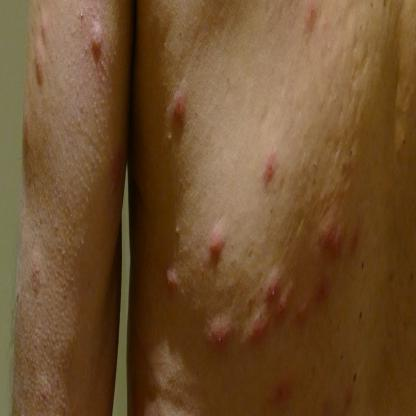Bed Bug: (240, 261, 342, 343), (312, 216, 362, 256), (32, 9, 53, 99), (200, 309, 234, 361), (165, 82, 194, 134), (206, 216, 228, 271), (271, 375, 304, 410), (25, 249, 46, 302), (298, 0, 328, 34), (258, 150, 280, 195), (337, 366, 359, 407), (164, 259, 184, 304), (32, 370, 56, 406), (87, 18, 105, 58)
